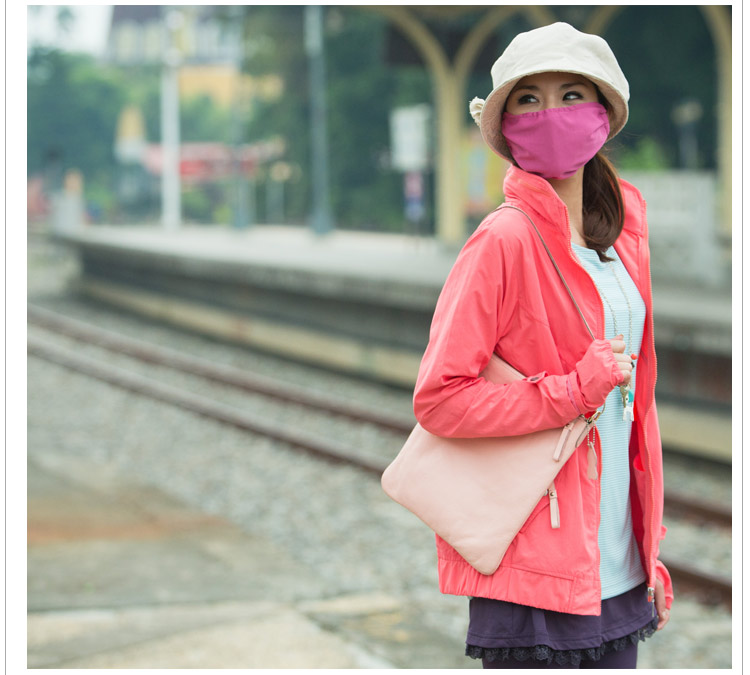face_mask: (507, 55, 609, 180)
